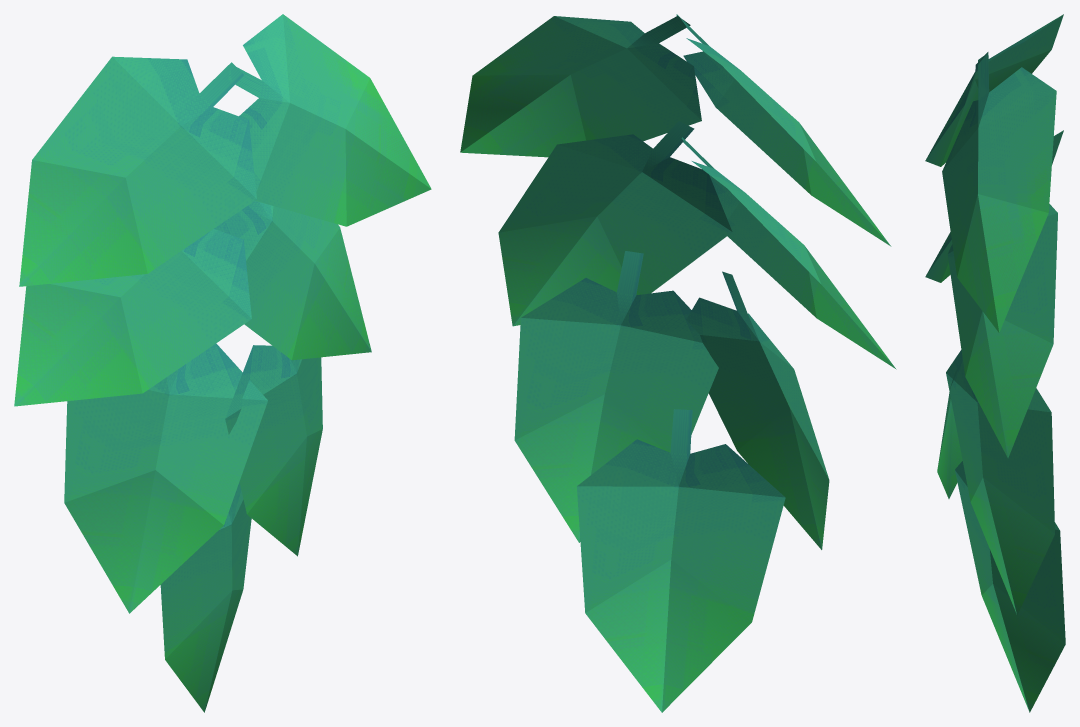
File: HangingPlant.fbx
The picture shows the model from 3 angles, left to right: view 1: azimuth 30°, elevation 25°; view 2: azimuth 150°, elevation 25°; view 3: azimuth 270°, elevation 25°; orthographic projection. The views are drawn at different scales.
Visible parts, largest first — view 1: HangingPlant; view 2: HangingPlant; view 3: HangingPlant.
Part boxes in pixels (x1,y1,x2,y2): HangingPlant: [14, 14, 431, 712]; HangingPlant: [460, 14, 896, 712]; HangingPlant: [925, 14, 1065, 712].
Bounding box in the file's own units: 254 × 384 × 73.5.
